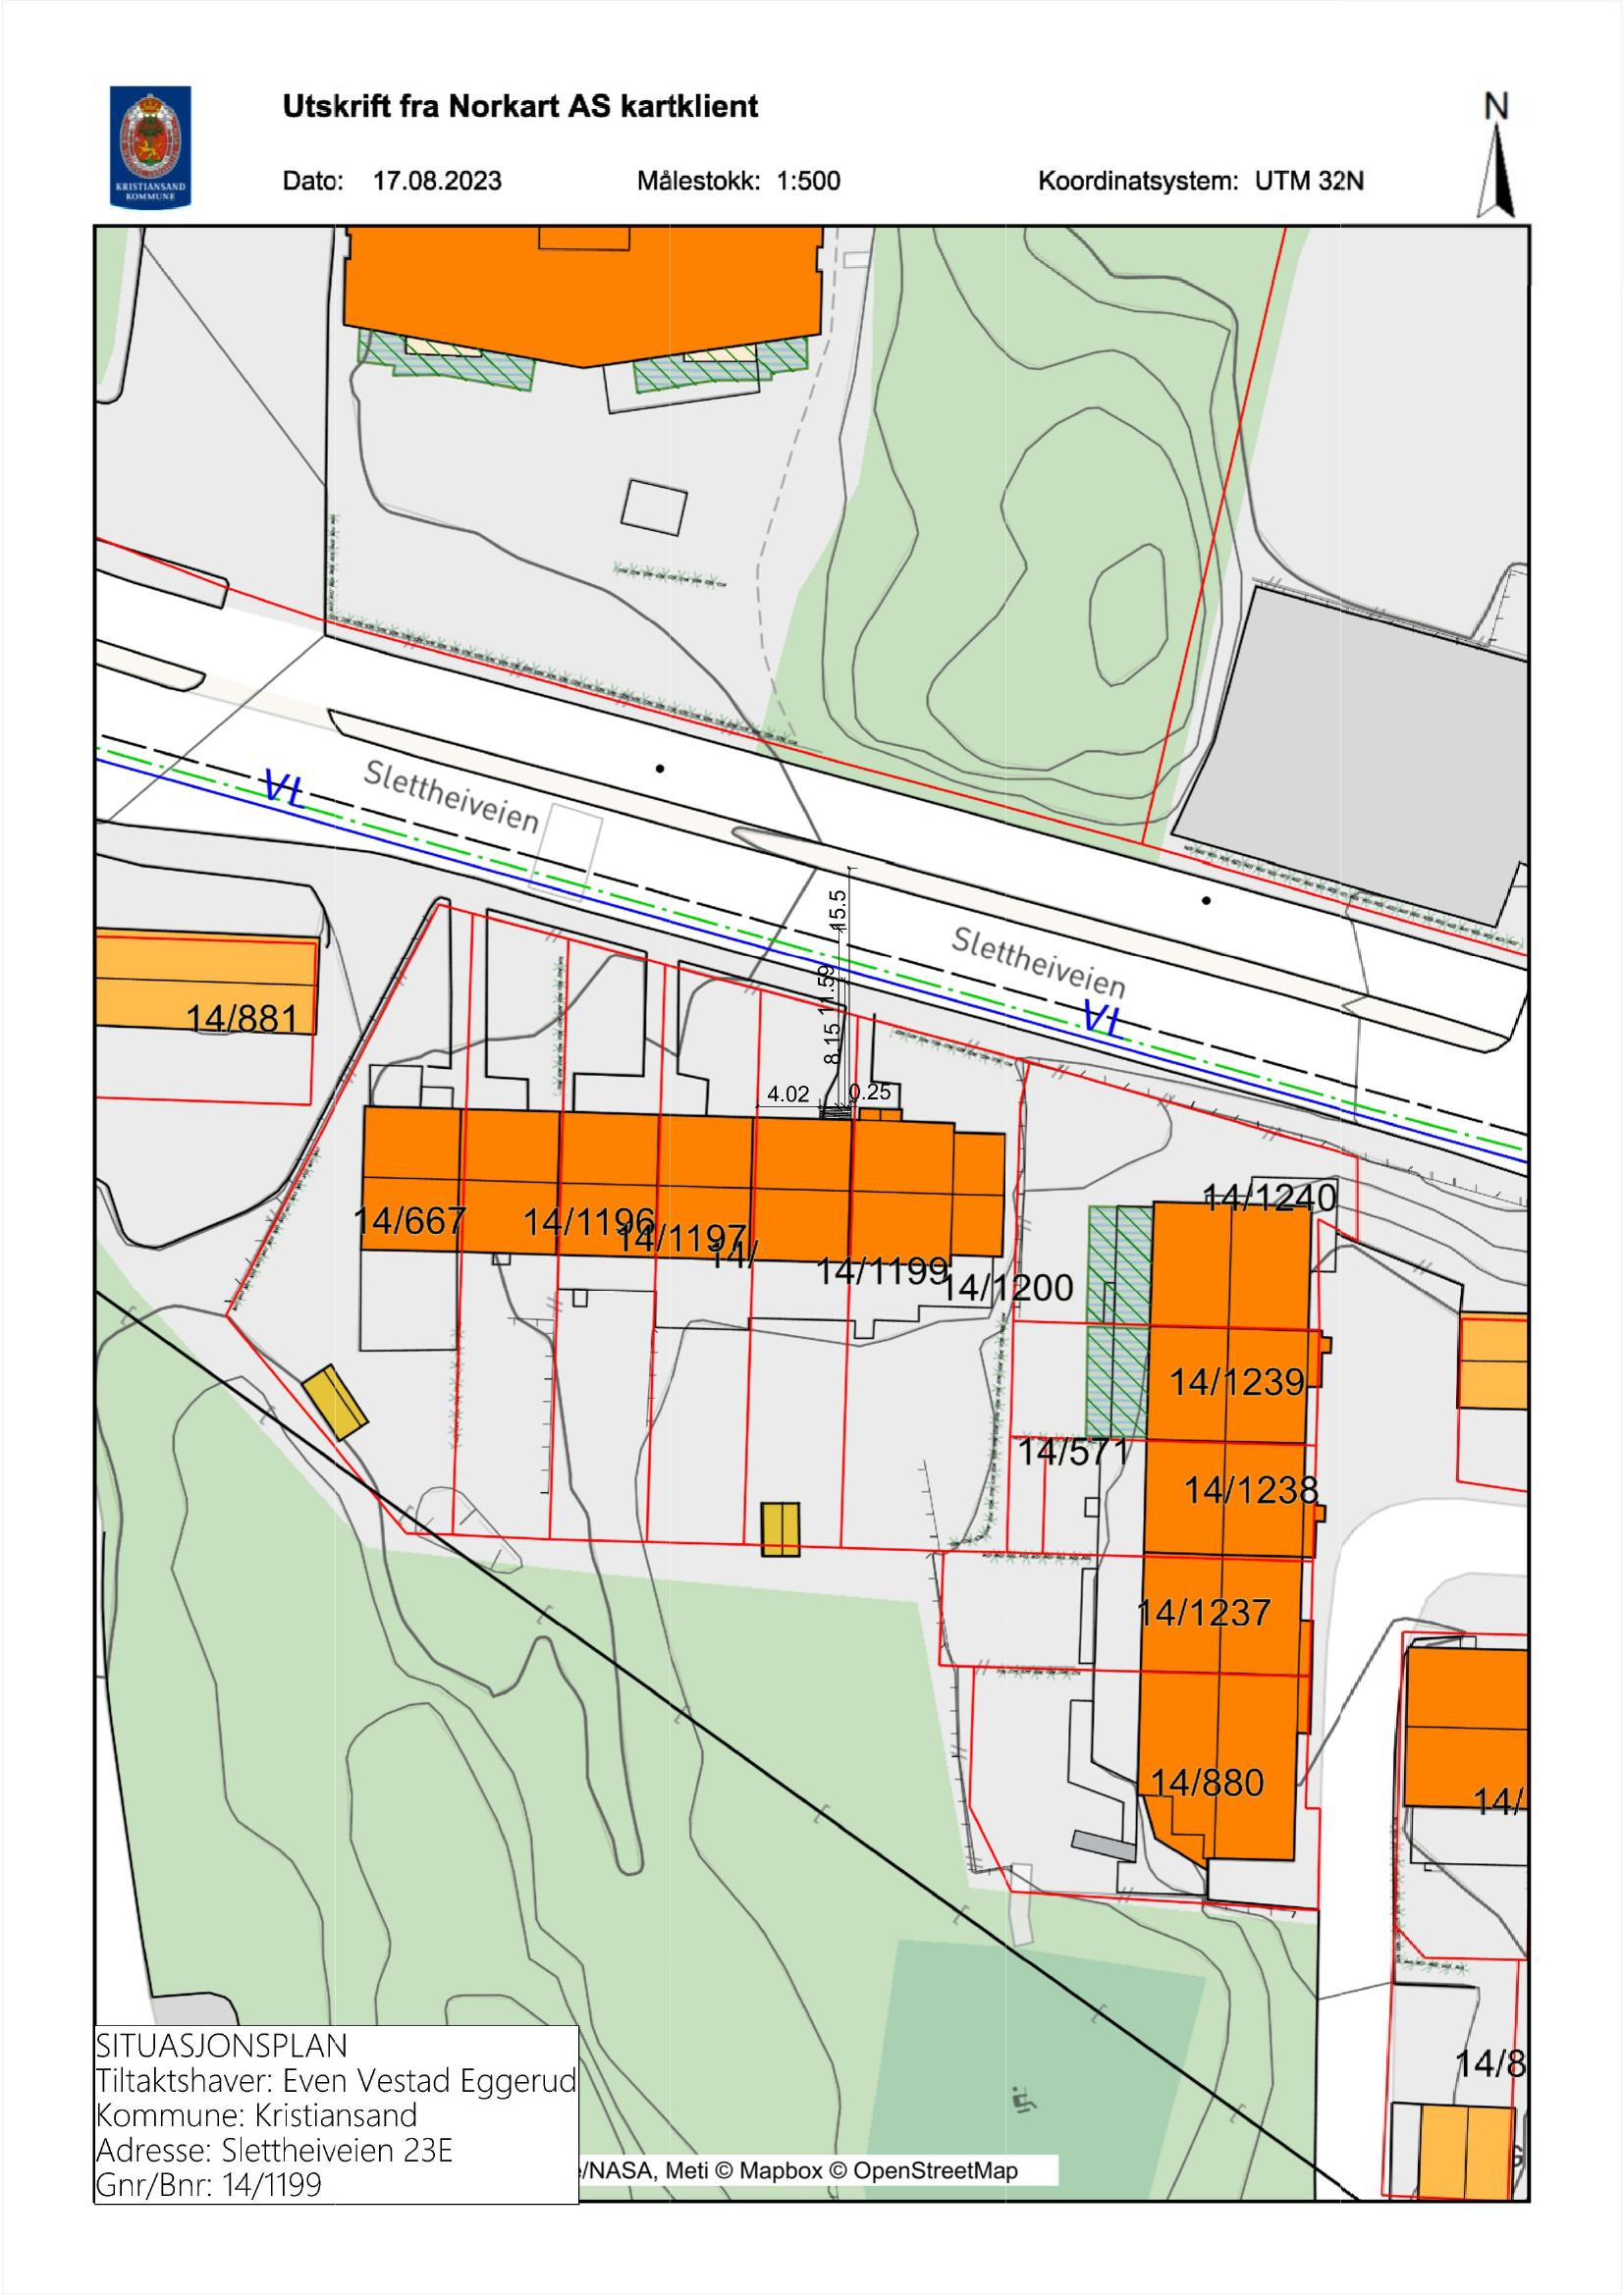situasjonskart: (90, 238, 1522, 2189)
